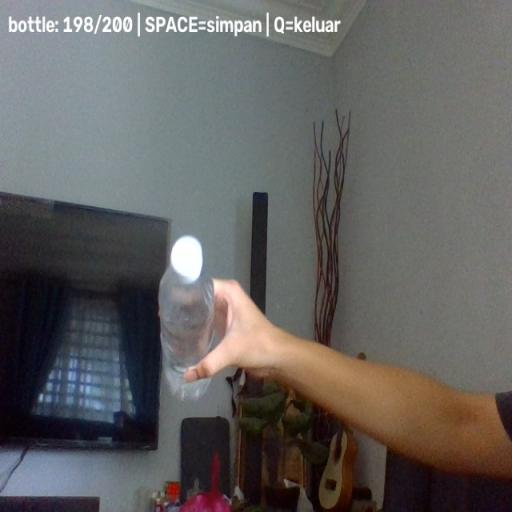Bottle: (158, 235, 216, 402)
